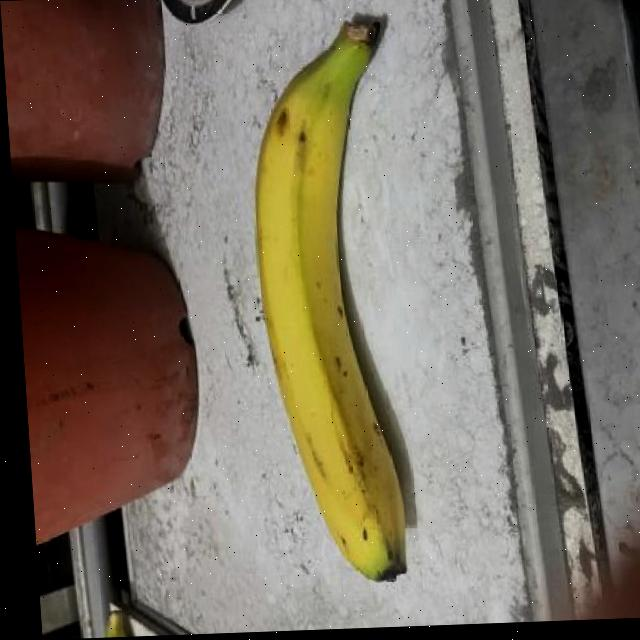banana: (238, 12, 421, 593)
